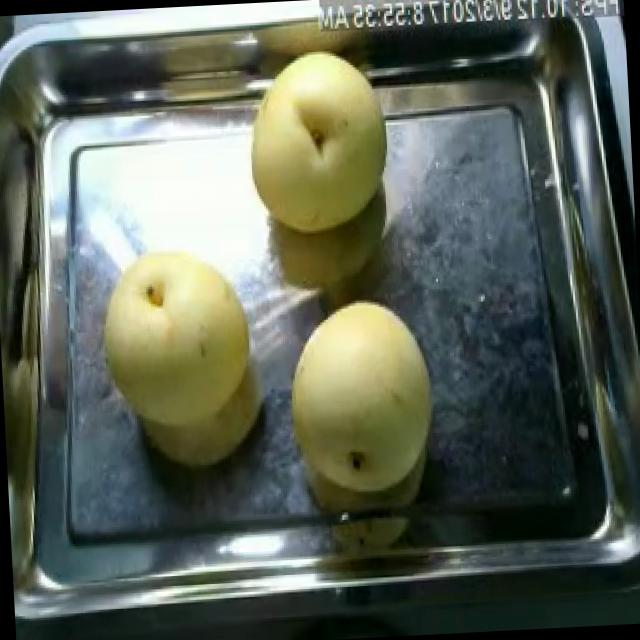Fruit: (88, 235, 278, 480), (270, 286, 452, 514), (232, 41, 396, 247)
